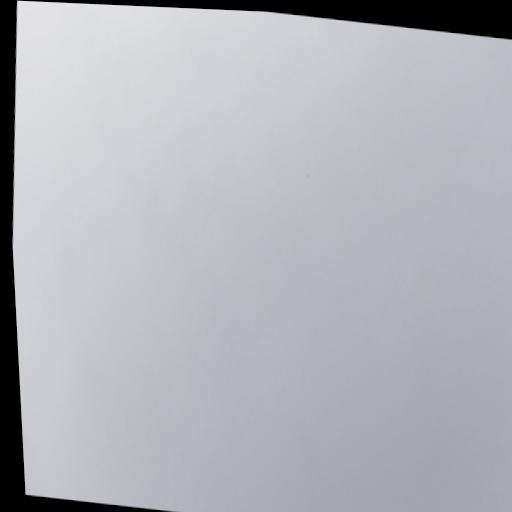drones: (306, 173, 311, 181)
